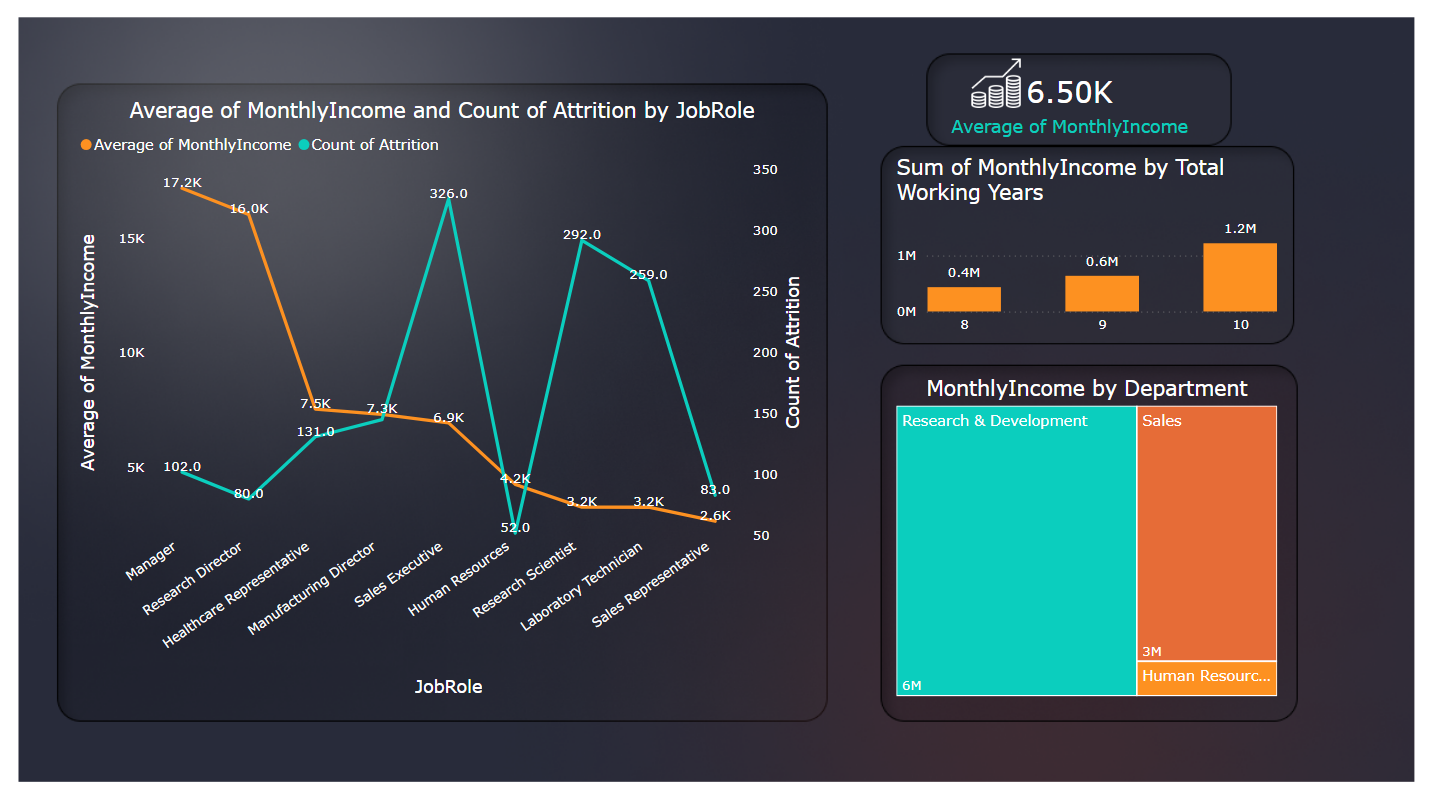

The dashboard page shown, as its layout file describes it:
{"tool":"powerbi","page":{"name":"MonthlyIncome","canvas":[1280,720],"ordinal":2},"visuals":[{"type":"image","box":[0,0,1279.4,720.6],"z":0},{"type":"lineChart","fields":{"Category":["HR-Employee-Attrition.JobRole"],"Y2":["CountNonNull(HR-Employee-Attrition.Attrition)"],"Y":["Avg(HR-Employee-Attrition.MonthlyIncome)"]},"box":[55.9,85.3,669.1,550],"z":1000},{"type":"treemap","title":"MonthlyIncome by Department","fields":{"Group":["HR-Employee-Attrition.Department"],"Values":["Sum(HR-Employee-Attrition.MonthlyIncome)"]},"box":[798.5,338.5,356,296.7],"z":2000},{"type":"card","fields":{"Values":["Avg(HR-Employee-Attrition.MonthlyIncome)"]},"box":[832.6,27.2,255.8,128.4],"z":3000},{"type":"columnChart","title":"Sum of MonthlyIncome by Total Working Years","fields":{"Category":["HR-Employee-Attrition.TotalWorkingYears"],"Y":["Sum(HR-Employee-Attrition.MonthlyIncome)"]},"box":[798.5,137.1,356,172.2],"z":4000},{"type":"image","box":[857.9,45.7,70,55.4],"z":5000}]}

Visuals, with their boxes in screenshot pixels (x1, y1, x2, y2), scaled from the page's 1280x720 canvas onto the 1430x803 screenshot:
image: rect(0, 0, 1429, 802)
lineChart - HR-Employee-Attrition.JobRole x CountNonNull(HR-Employee-Attrition.Attrition): rect(62, 95, 810, 709)
"MonthlyIncome by Department" treemap: rect(892, 378, 1290, 708)
card - Avg(HR-Employee-Attrition.MonthlyIncome): rect(930, 30, 1216, 174)
"Sum of MonthlyIncome by Total Working Years" columnChart: rect(892, 153, 1290, 345)
image: rect(958, 51, 1037, 113)
